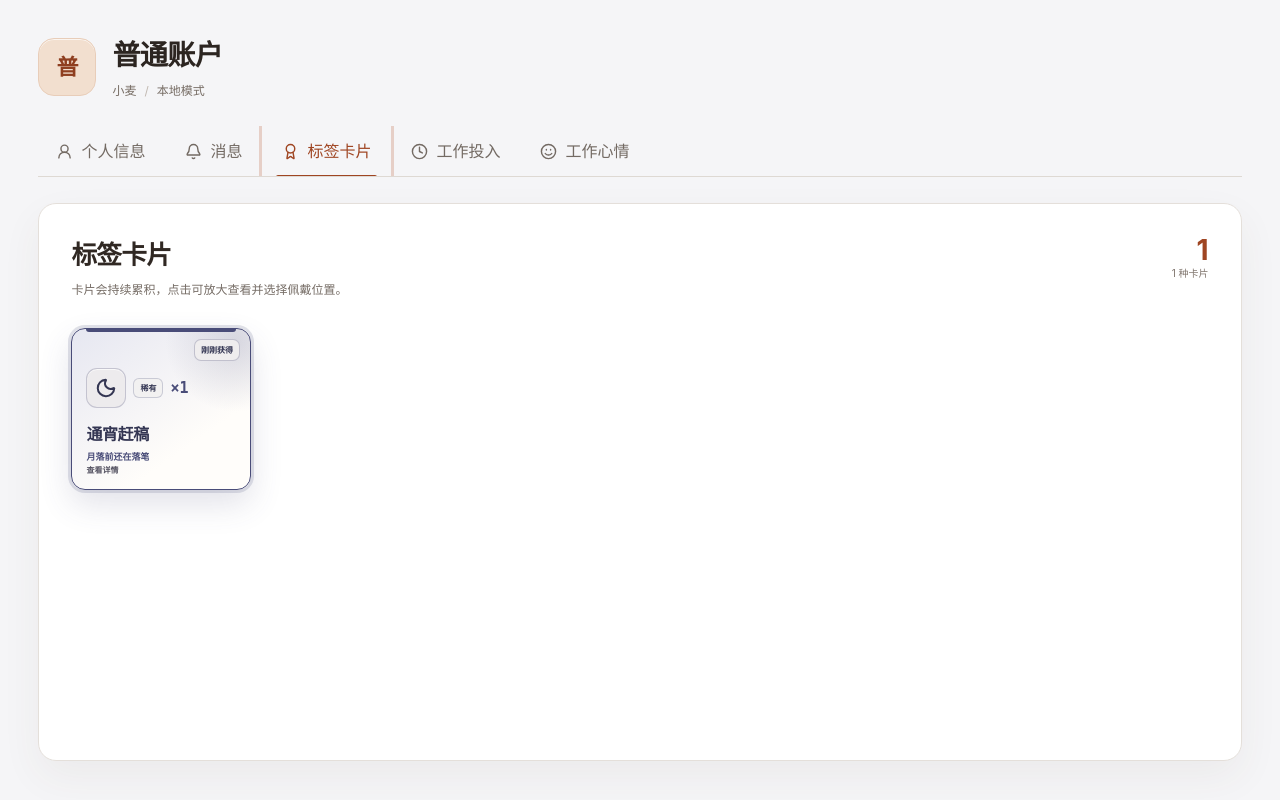
Test case: AccountProfile achievements › shows the cloud badge inventory without waiting for local metric sync
Expected: the text "通宵赶稿" is shown, left=86, top=422, right=149, bottom=446
Expected: the text "刚刚获得" is shown, left=194, top=339, right=240, bottom=361
Click the button with aria-label "查看「通宵赶稿」卡片详情": (161,409) left=72, top=329, right=250, bottom=489
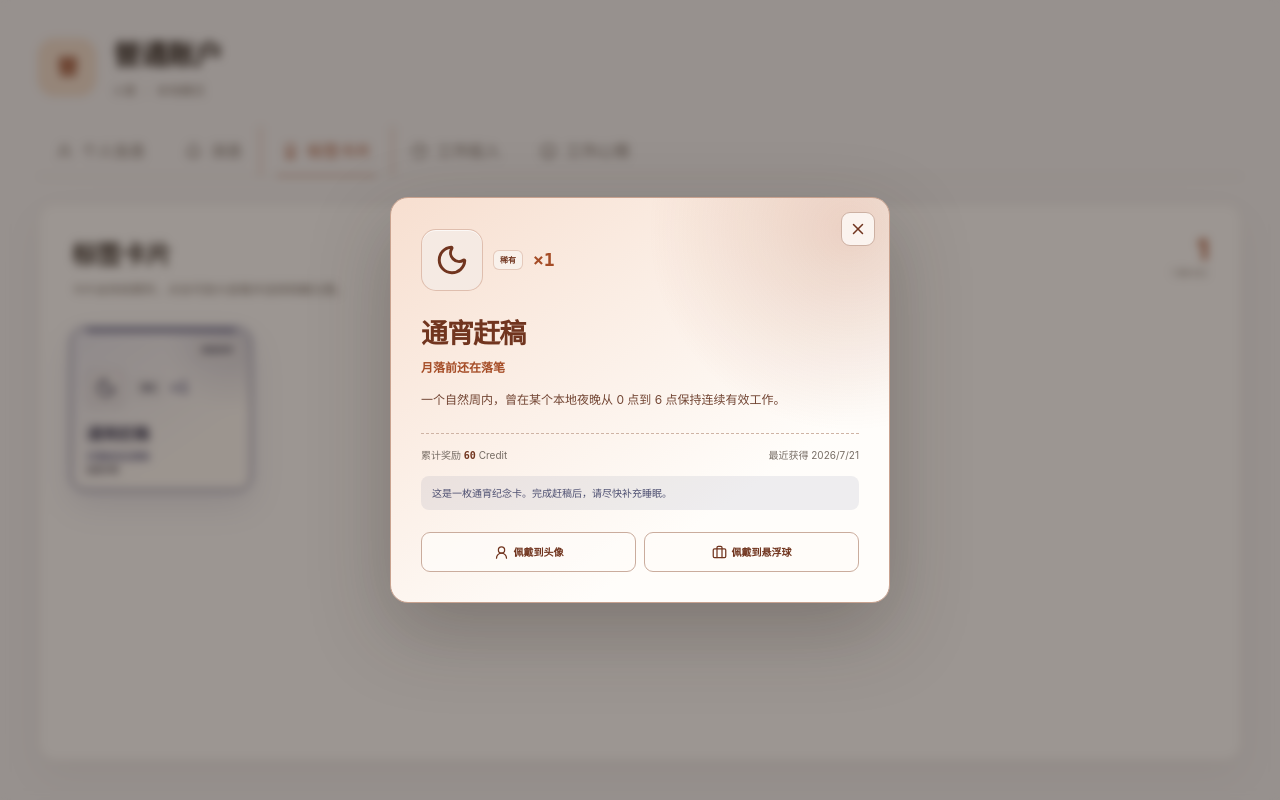
Expected: the dialog "通宵赶稿" is shown, left=390, top=197, right=890, bottom=603
Expected: the text "一个自然周内，曾在某个本地夜晚从 0 点到 6 点保持连续有效工作。" is shown, left=421, top=392, right=786, bottom=407
Expected: the text "这是一枚通宵纪念卡。完成赶稿后，请尽快补充睡眠。" is shown, left=421, top=476, right=859, bottom=510
Click the button named "关闭「通宵赶稿」卡片详情": (858,229) left=841, top=212, right=875, bottom=246
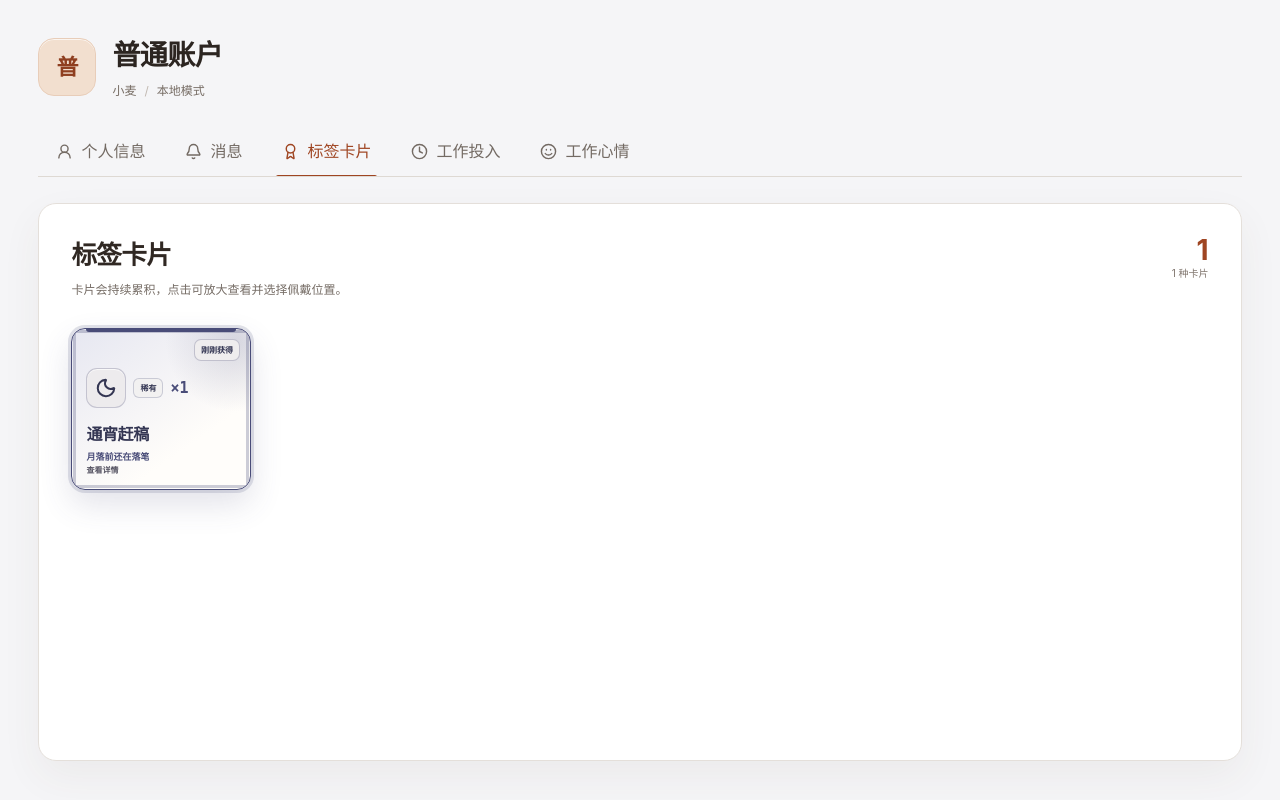
Click the tab "消息": (214,151) left=167, top=126, right=260, bottom=176
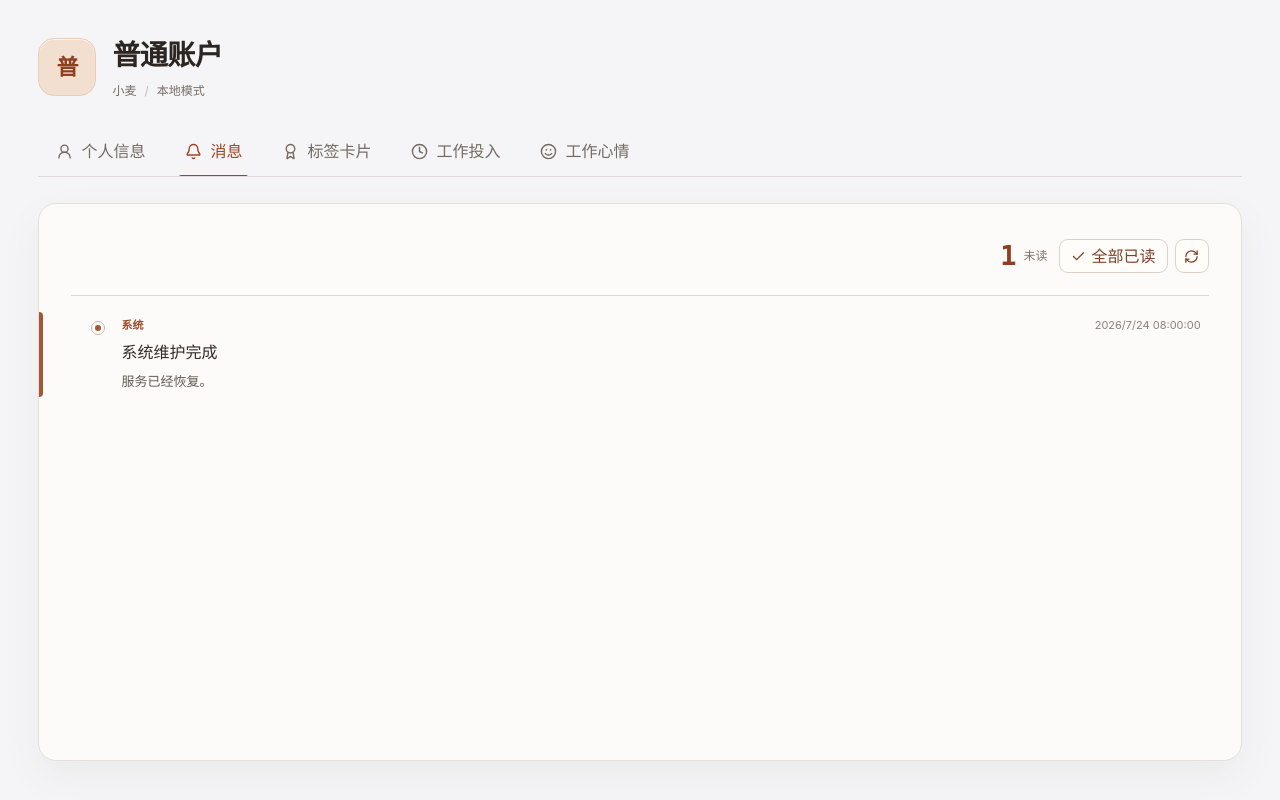
Expected: the heading "系统维护完成" is shown, left=121, top=342, right=217, bottom=362
